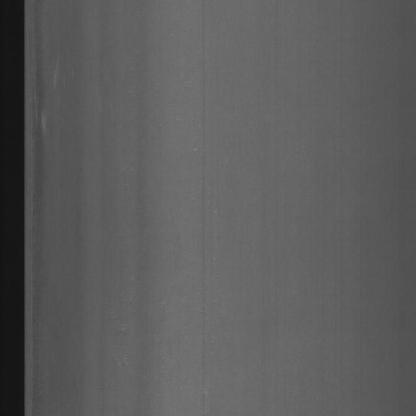silk_spot: (27, 20, 61, 142)
